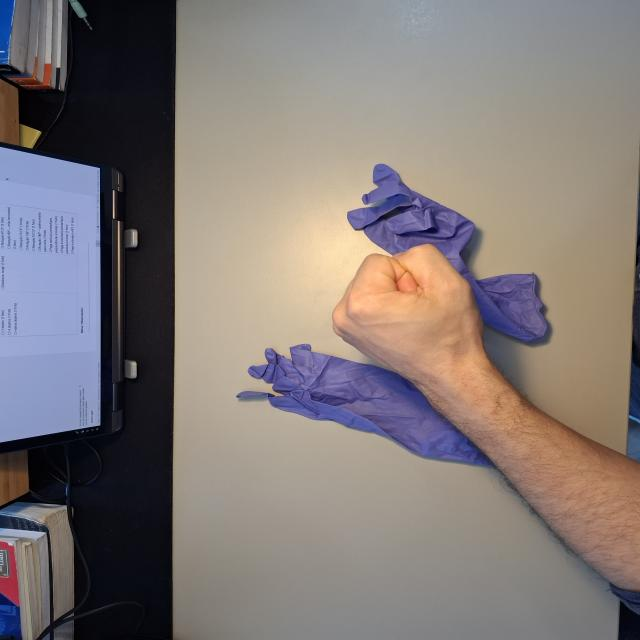glove_off: (330, 242, 491, 394)
